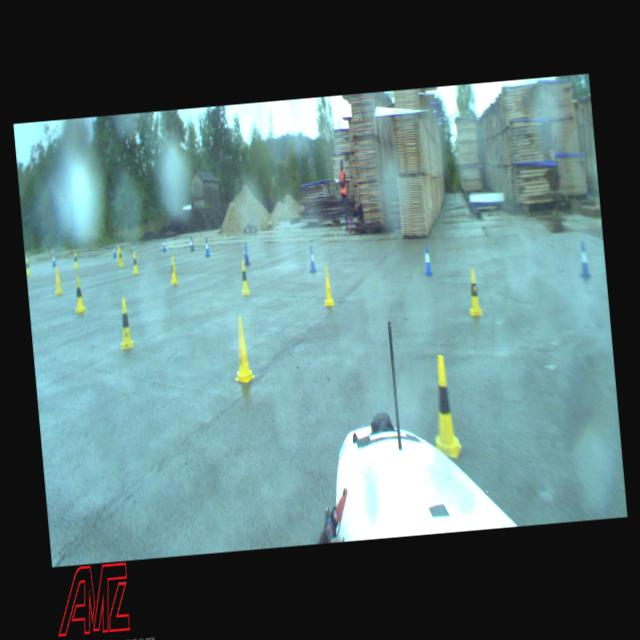blue_cone: (578, 240, 590, 278), (422, 242, 432, 276), (308, 245, 316, 272), (243, 242, 249, 264), (203, 238, 210, 255), (189, 236, 194, 250), (161, 238, 166, 252), (51, 254, 56, 266), (112, 243, 116, 257)
yellow_cone: (428, 354, 462, 458), (230, 316, 256, 384), (117, 296, 134, 348), (466, 268, 482, 316), (321, 266, 334, 306), (74, 276, 86, 312), (239, 261, 249, 295), (168, 256, 178, 284), (53, 266, 62, 294), (132, 250, 138, 272), (116, 248, 122, 266), (74, 252, 78, 268), (25, 258, 29, 274)
